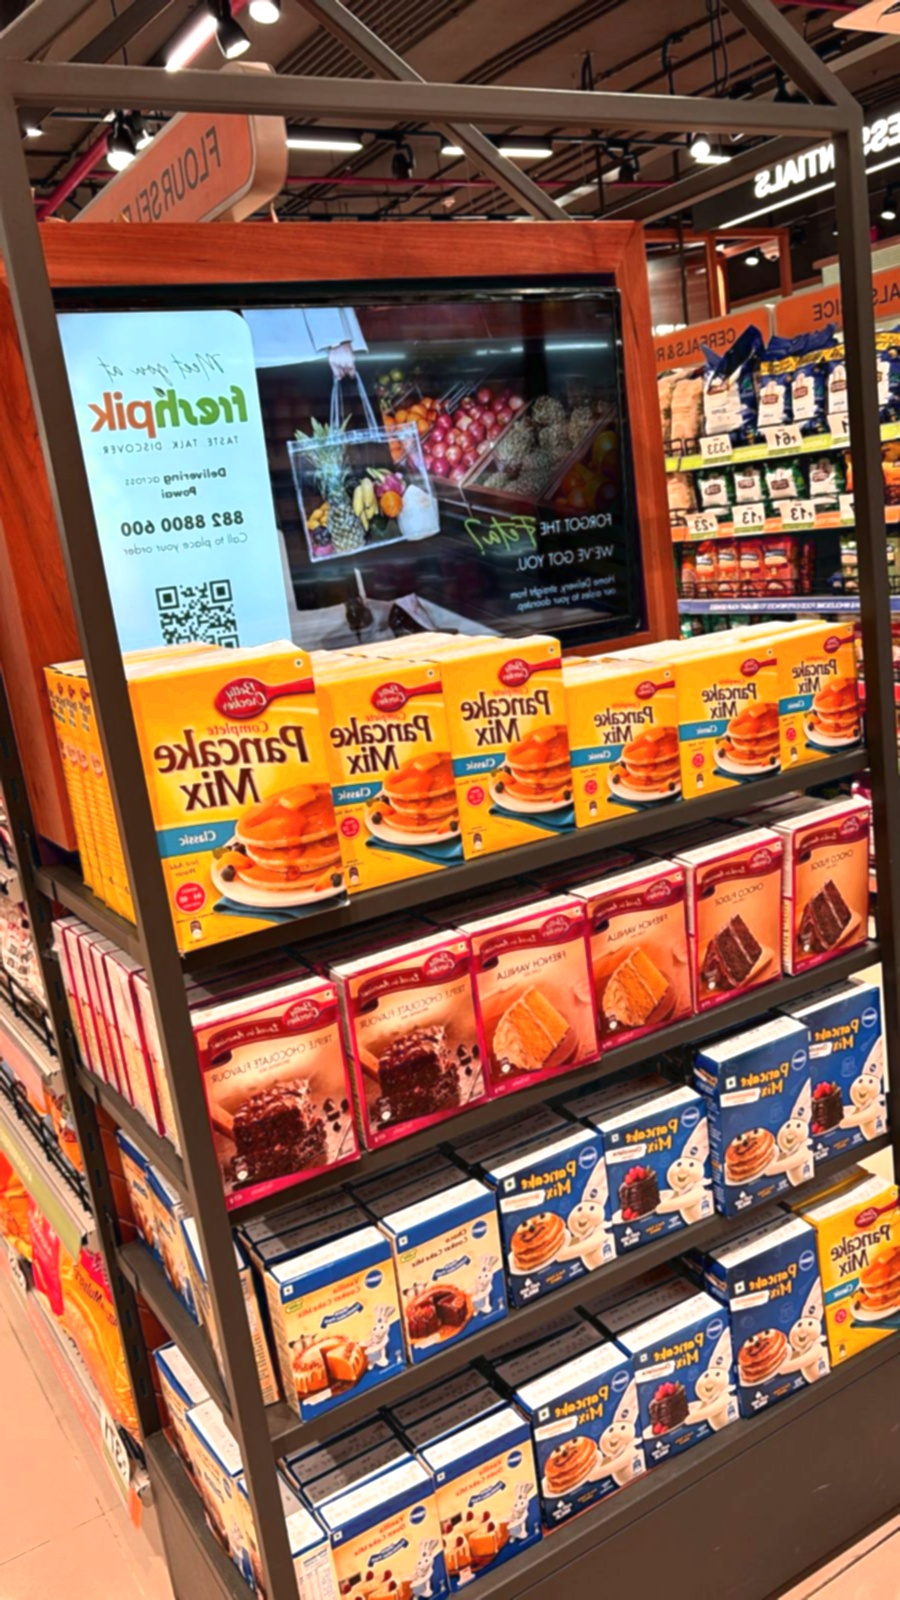Betty Crocker Pancake Mix: (145, 649, 336, 958), (320, 656, 448, 908), (446, 636, 575, 874), (564, 662, 679, 838), (669, 641, 786, 811), (768, 619, 859, 782), (829, 1176, 900, 1376)
